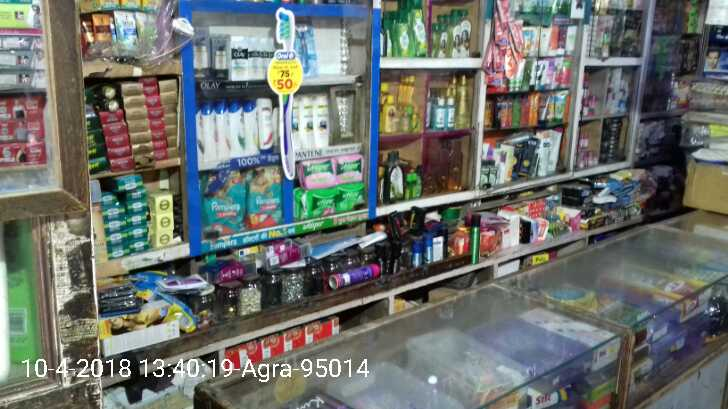venus: (298, 23, 318, 75)
